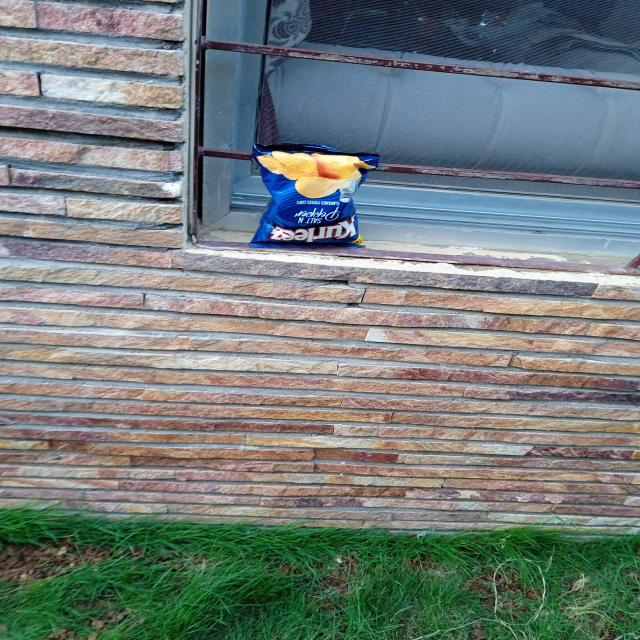Plastic: (242, 142, 374, 255)
